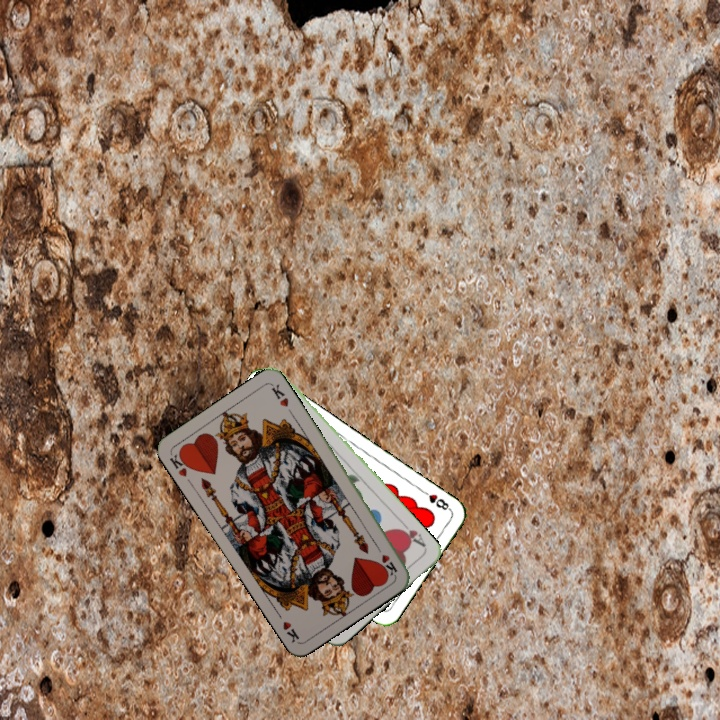H8: (417, 486, 453, 513)
HA: (394, 518, 429, 550)
HK: (371, 540, 400, 578), (166, 447, 194, 479)
